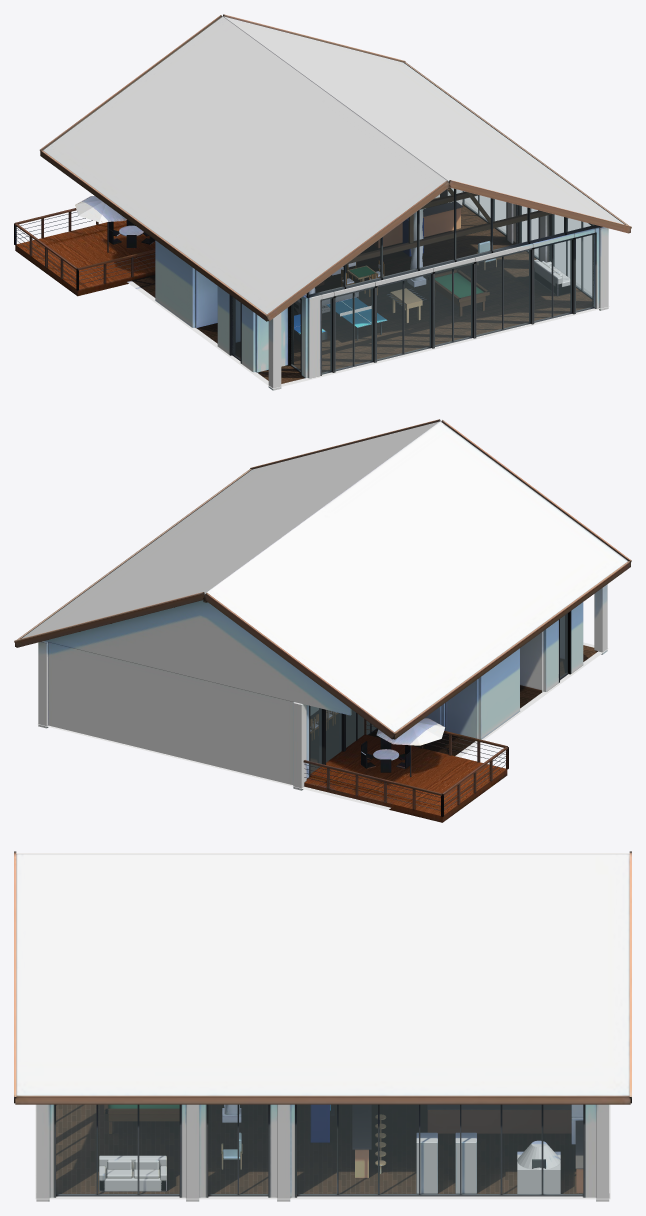
The model's file is salao.glb.
3 renders of one model, top to bottom at view 1: azimuth 30°, elevation 25°; view 2: azimuth 150°, elevation 25°; view 3: azimuth 270°, elevation 25°, orthographic. The views are drawn at different scales.
Visible parts, largest first — view 1: telhado_ext, vidro, estrutura, piso, deck, moveis, telhado_int; view 2: telhado_ext, estrutura, deck, piso, vidro; view 3: telhado_ext, vidro, piso, moveis, estrutura.
Boxes of the visible parts, x1,y1,x2,y2 form: telhado_ext: (39,14,631,321); vidro: (233,188,593,372); estrutura: (127,188,609,390); piso: (131,197,592,383); deck: (14,196,155,296); moveis: (294,188,570,342); telhado_int: (346,187,568,264); telhado_ext: (14,419,631,739); estrutura: (37,584,608,809); deck: (303,718,508,822); piso: (310,645,597,773); vidro: (310,614,567,773); telhado_ext: (14,851,631,1104); vidro: (56,1105,582,1194); piso: (56,1104,583,1193); moveis: (99,1104,583,1193); estrutura: (35,1104,610,1201).
Bounding box in the file's own units: 20.34 × 8.49 × 19.94.
Materials: 8 (6 with a texture image).
